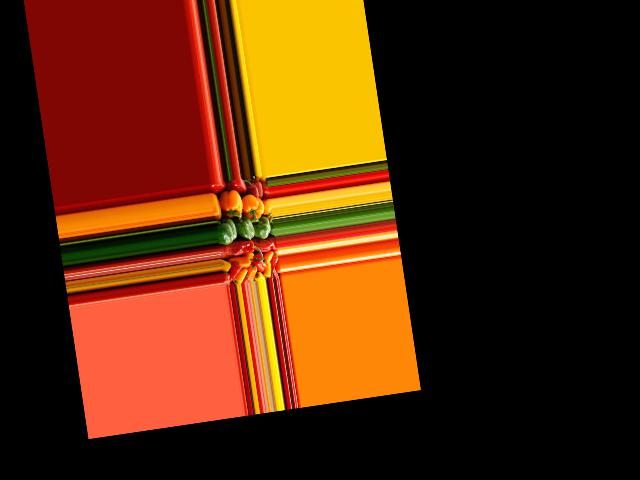bell_pepper: (225, 261, 243, 282)
